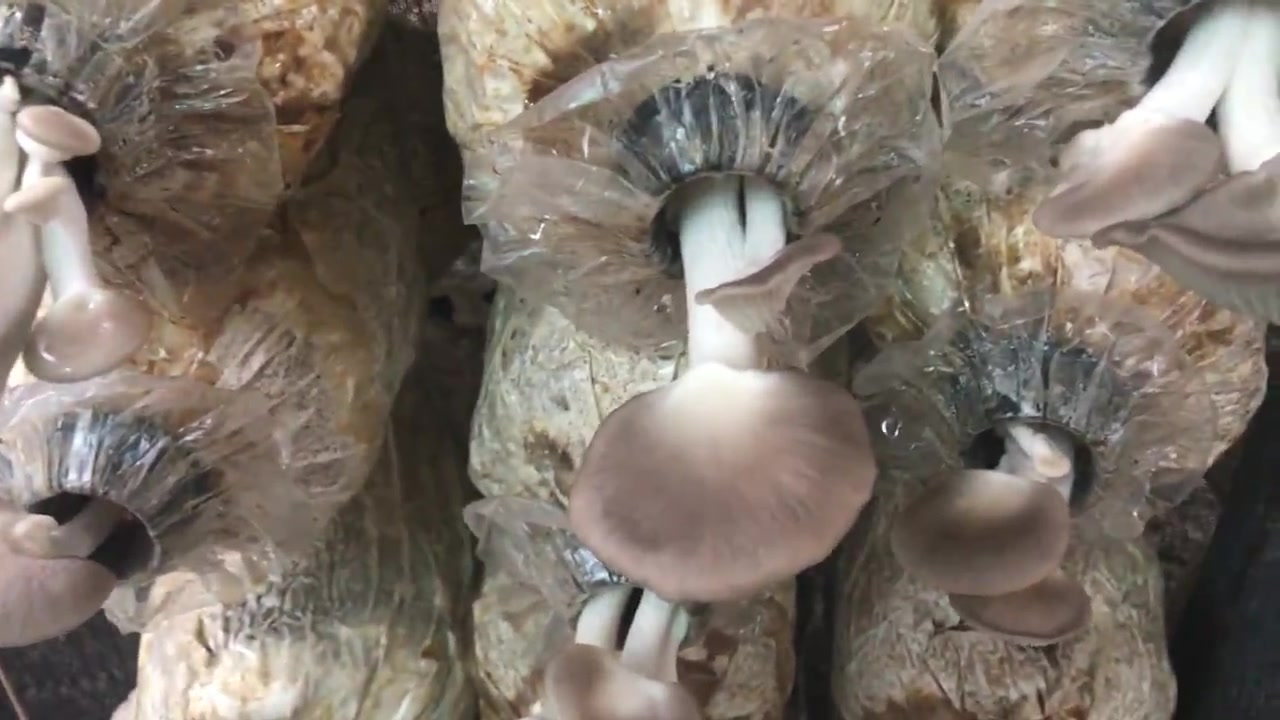nam: (568, 107, 877, 600), (1030, 2, 1280, 321), (891, 375, 1125, 641), (1, 6, 150, 386), (1, 425, 174, 645), (545, 546, 700, 720)
